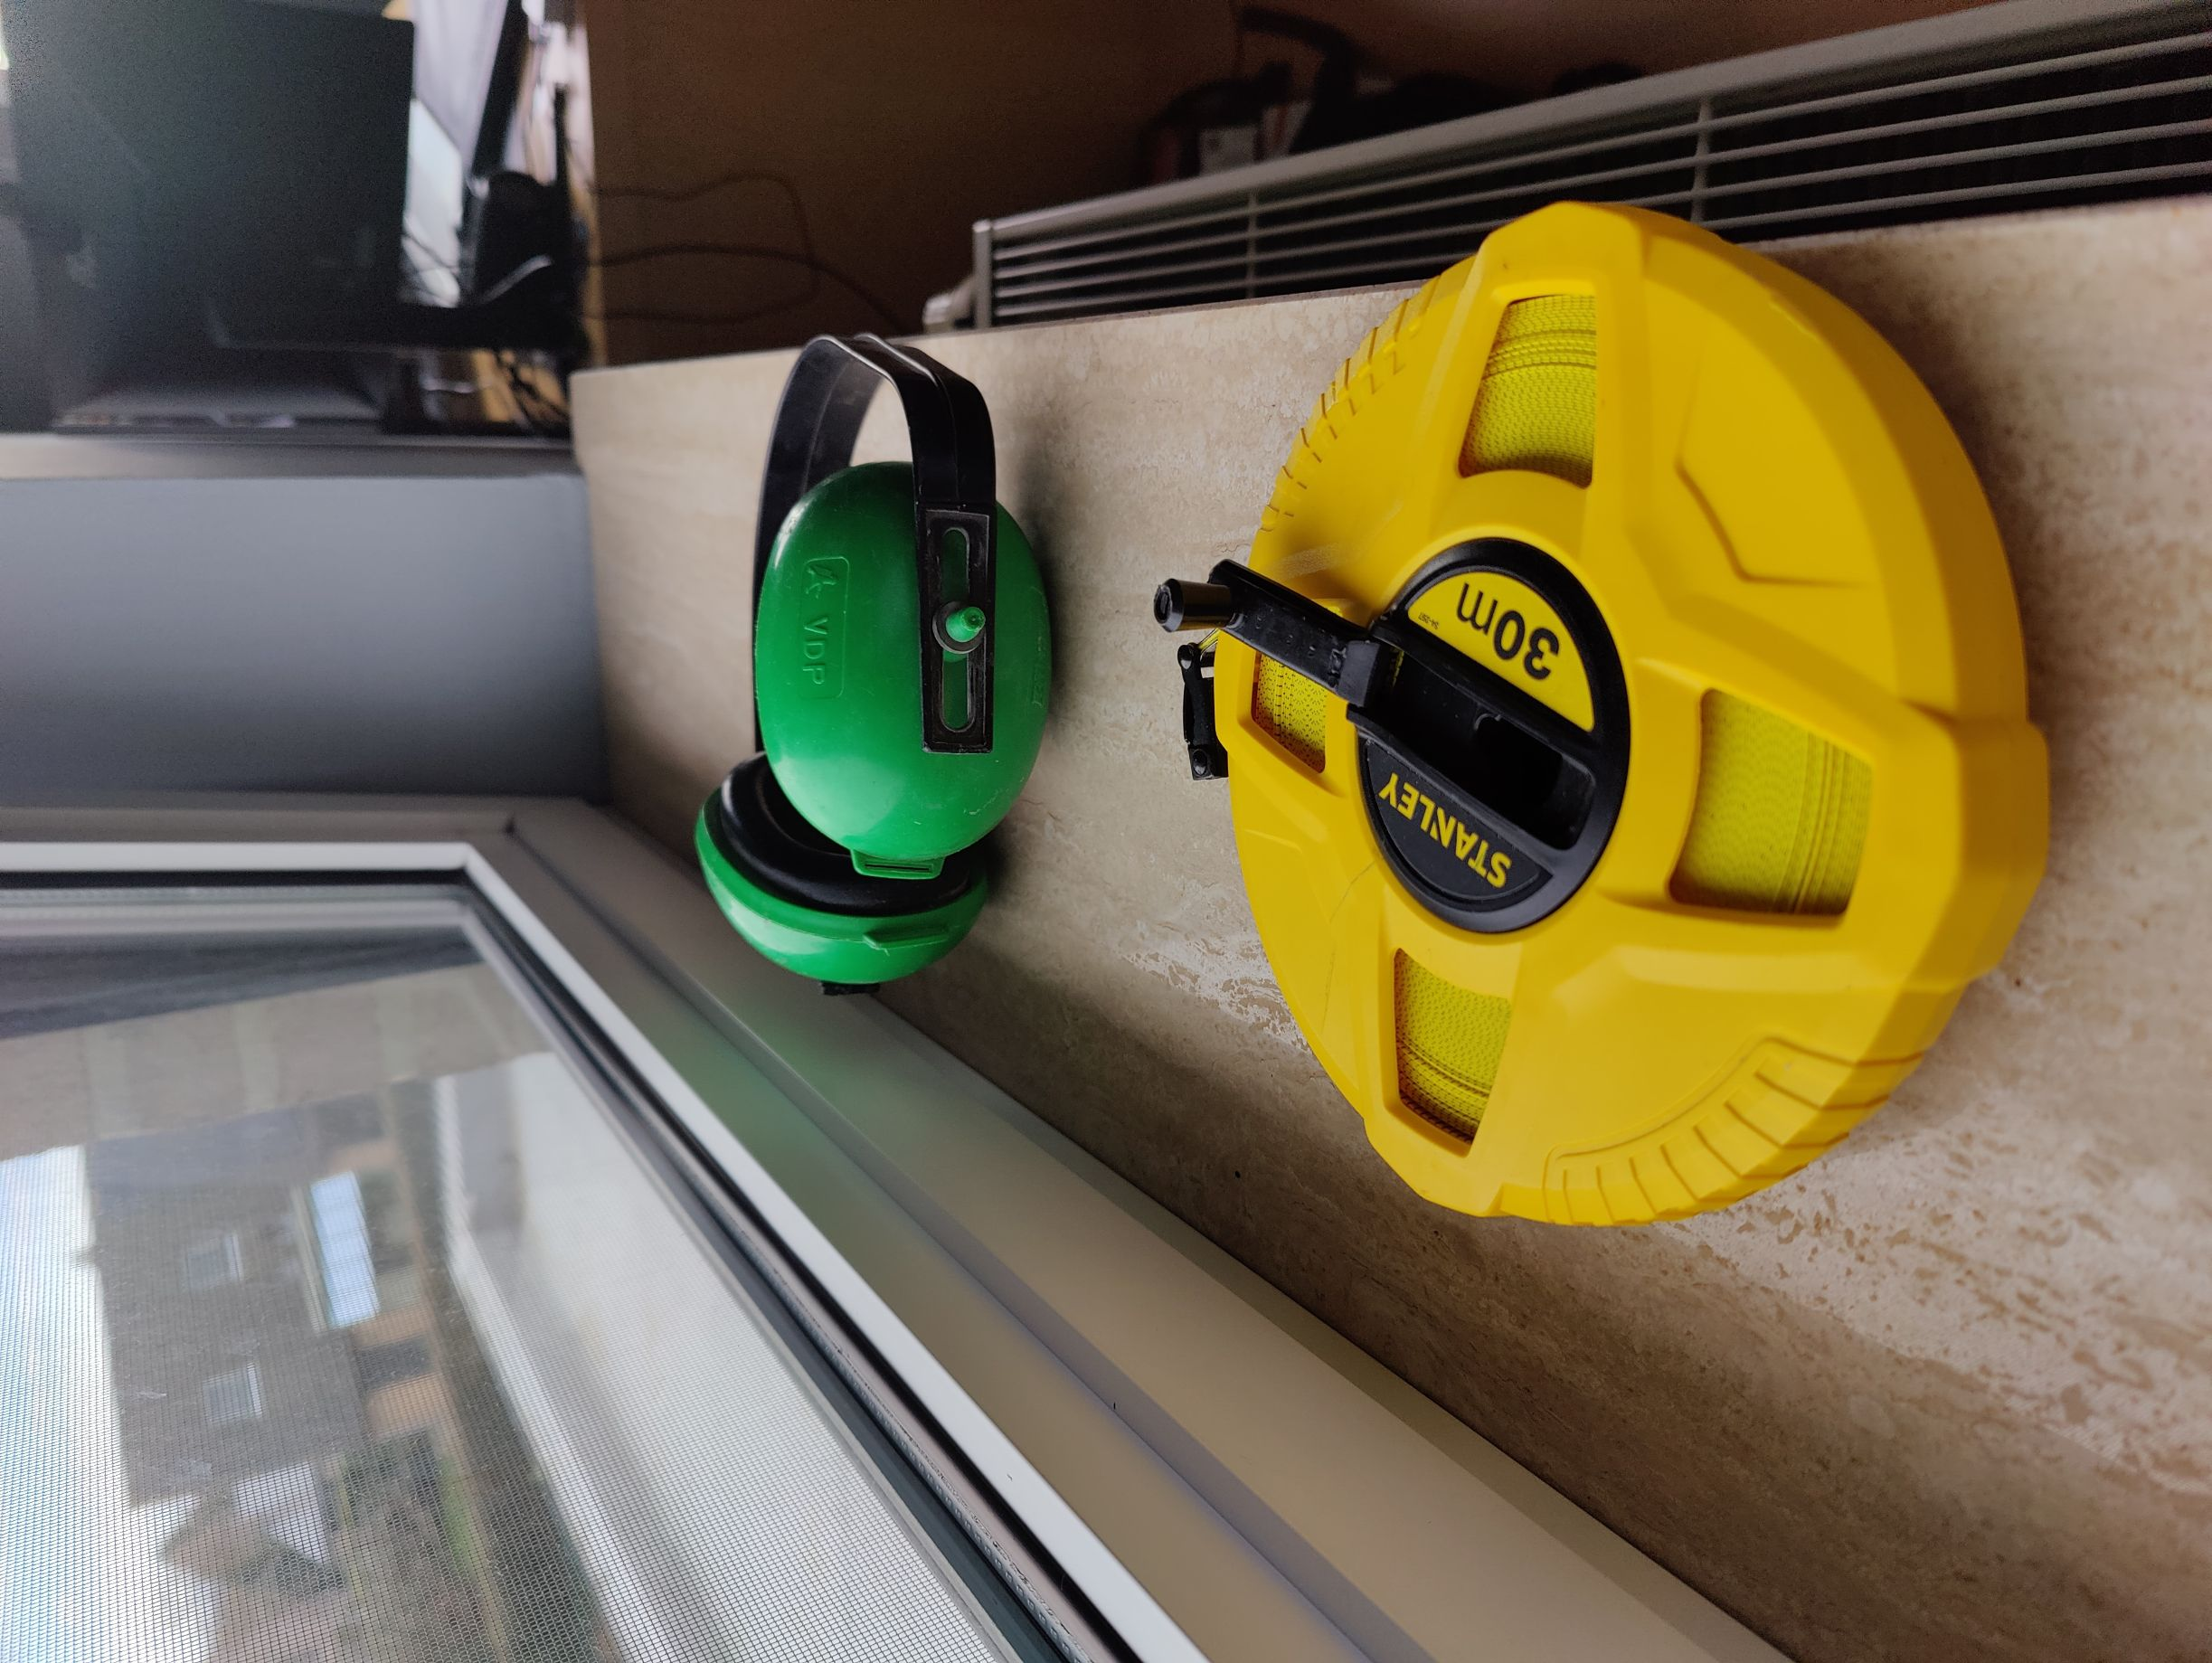headphones: (699, 297, 1054, 996)
tapemeasure: (1151, 199, 2055, 1228)
